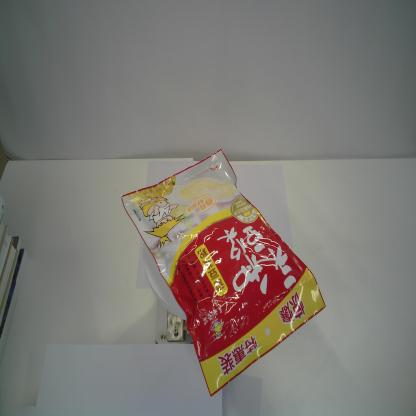Instant Drink: (121, 148, 327, 396)
